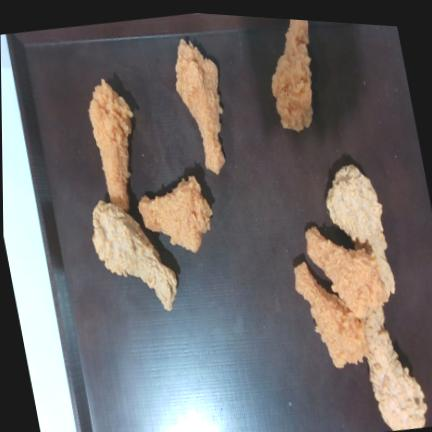chicken: (93, 201, 177, 310), (295, 262, 368, 368), (306, 227, 388, 319), (365, 311, 427, 430), (175, 39, 225, 174), (89, 78, 133, 211), (326, 165, 387, 260), (138, 176, 212, 252), (272, 19, 313, 131)
